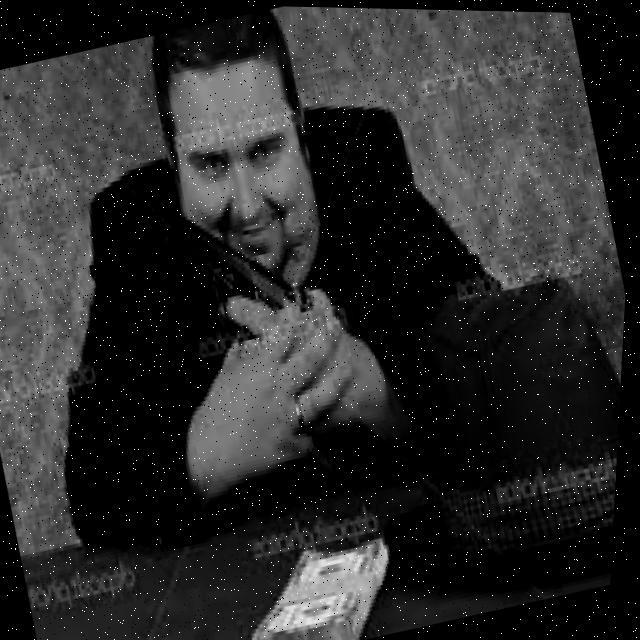pistol: (167, 187, 323, 337)
